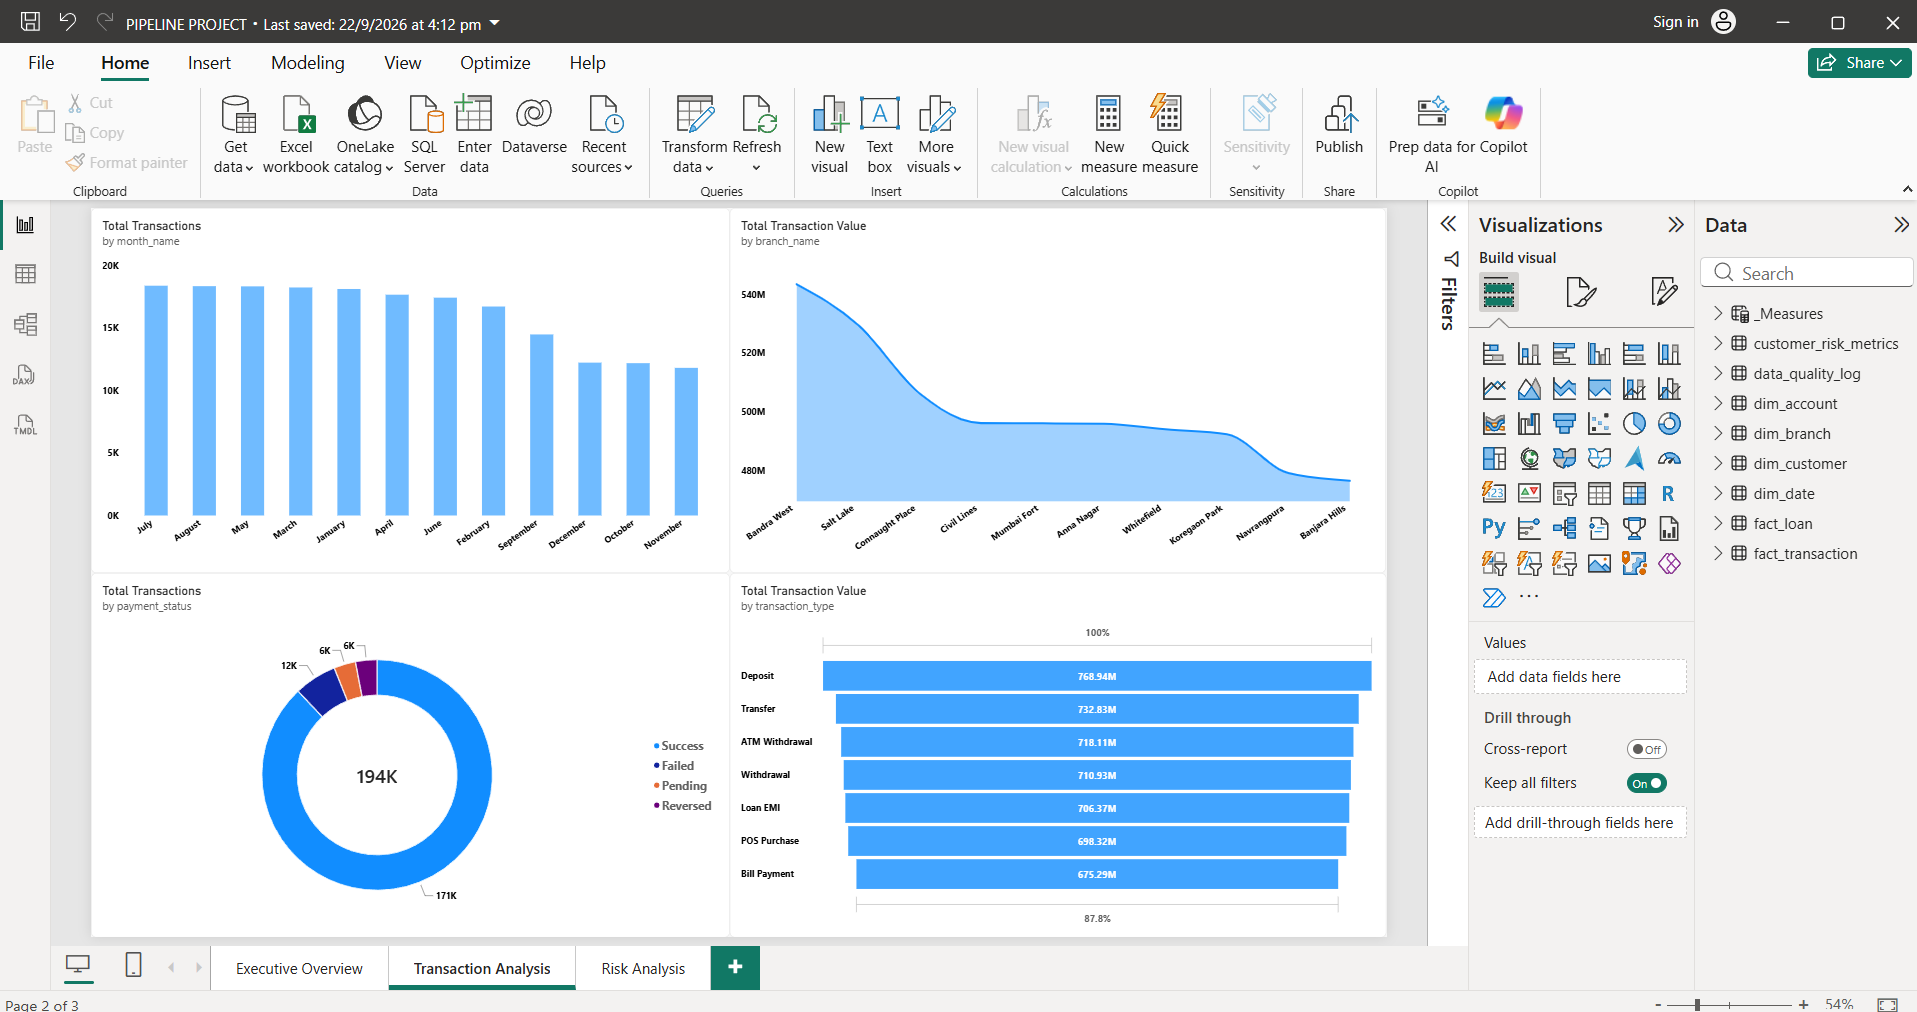

This screenshot's page, from the dashboard's own definition file:
{"tool":"powerbi","page":{"name":"Transaction Analysis","canvas":[1920,1080],"ordinal":1},"visuals":[{"type":"lineClusteredColumnComboChart","fields":{"Category":["dim_date.month_name"],"Y":["_Measures.Total Transactions"]},"box":[0,0,946.3,540.7],"z":0},{"type":"funnel","fields":{"Category":["fact_transaction.transaction_type"],"Y":["_Measures.Total Transaction Value"]},"box":[946.2,540.4,973.1,540.4],"z":1000},{"type":"donutChart","fields":{"Category":["fact_transaction.payment_status"],"Y":["_Measures.Total Transactions"]},"box":[0,540.4,946.2,540.4],"z":2000},{"type":"areaChart","fields":{"Category":["dim_branch.branch_name"],"Y":["_Measures.Total Transaction Value"]},"box":[946.3,0,972.2,540.7],"z":3000}]}

Visuals, with their boxes on the page's 1920x1080 design canvas (x1, y1, x2, y2). These are canvas units, not pixel positions in the 1917x1012 screenshot, which may show the page scaled, cropped or inside an application window:
lineClusteredColumnComboChart - dim_date.month_name x _Measures.Total Transactions: 0 0 946 541
funnel - fact_transaction.transaction_type x _Measures.Total Transaction Value: 946 540 1919 1081
donutChart - fact_transaction.payment_status x _Measures.Total Transactions: 0 540 946 1081
areaChart - dim_branch.branch_name x _Measures.Total Transaction Value: 946 0 1918 541
